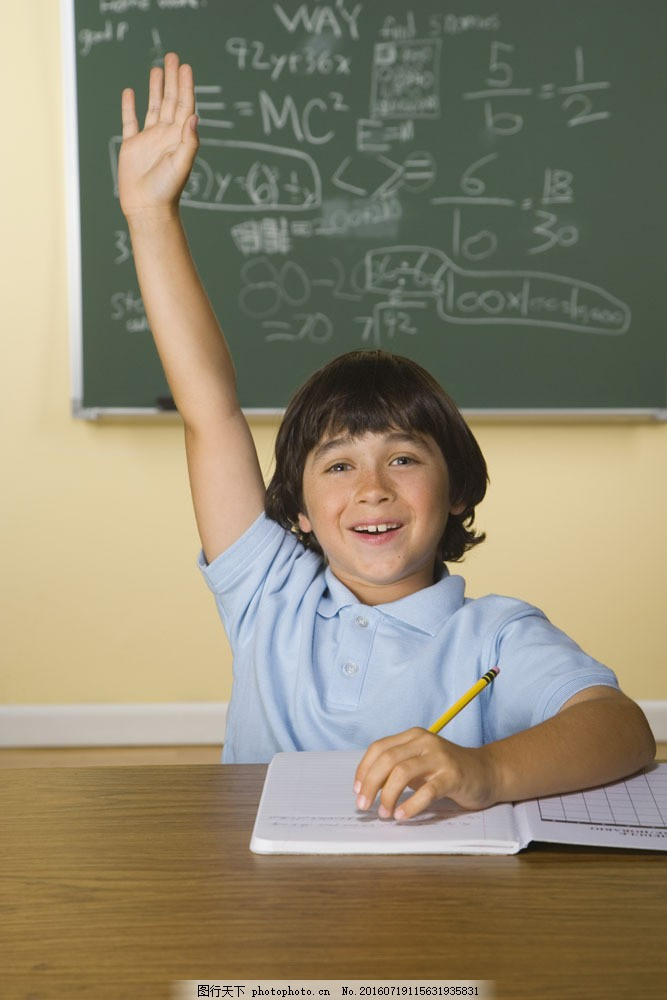handsup: (102, 45, 659, 853)
